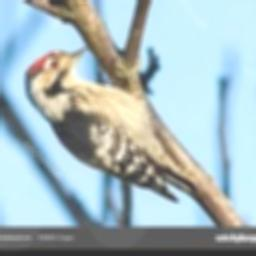Woodpecker: (24, 46, 199, 202)
